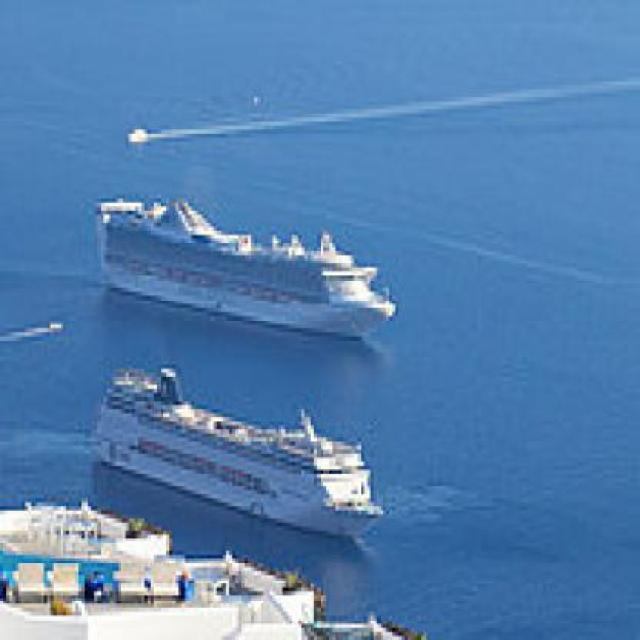cruise: (89, 361, 400, 556), (89, 179, 409, 350)
